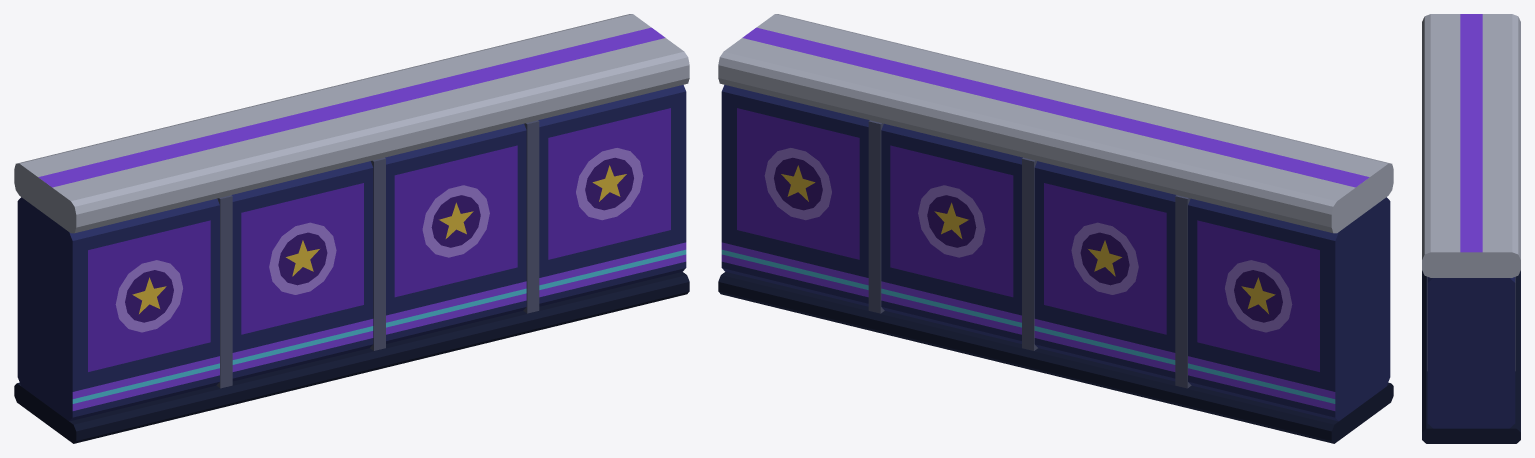
Rendered from space-border.glb.
3 views of the same model, side by side, from view 1: azimuth 30°, elevation 25°; view 2: azimuth 150°, elevation 25°; view 3: azimuth 270°, elevation 25° (orthographic). The views are drawn at different scales.
Visible parts, largest first — view 1: space-border; view 2: space-border; view 3: space-border.
Part boxes in pixels (x1,y1,x2,y2): space-border: [14, 14, 689, 443]; space-border: [718, 14, 1393, 443]; space-border: [1422, 14, 1520, 443].
Bounding box in the file's own units: 4 × 1.5 × 0.7.
